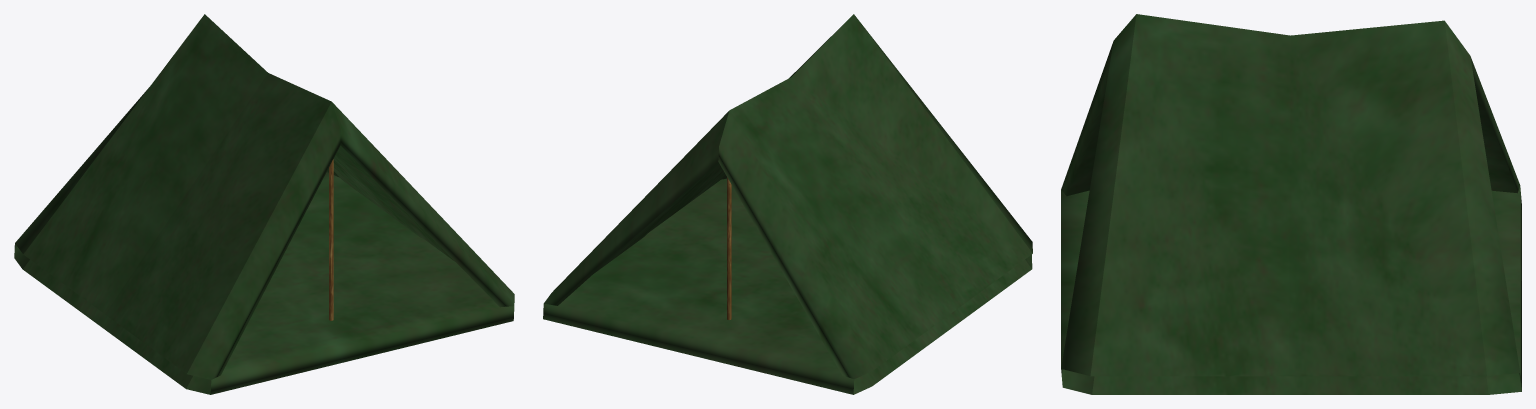
Rendered from tentfix2.fbx.
3 views of the same model, side by side, from view 1: azimuth 30°, elevation 25°; view 2: azimuth 150°, elevation 25°; view 3: azimuth 270°, elevation 25° (orthographic). The views are drawn at different scales.
Visible parts, largest first — view 1: Cube, Cylinder; view 2: Cube, Cylinder; view 3: Cube.
Part boxes in pixels (bbox=[...]): Cube: bbox=[14, 14, 514, 394]; Cylinder: bbox=[329, 159, 333, 320]; Cube: bbox=[543, 14, 1032, 394]; Cylinder: bbox=[727, 177, 731, 319]; Cube: bbox=[1061, 14, 1521, 394].
Bounding box in the file's own units: 898 × 613 × 901.
